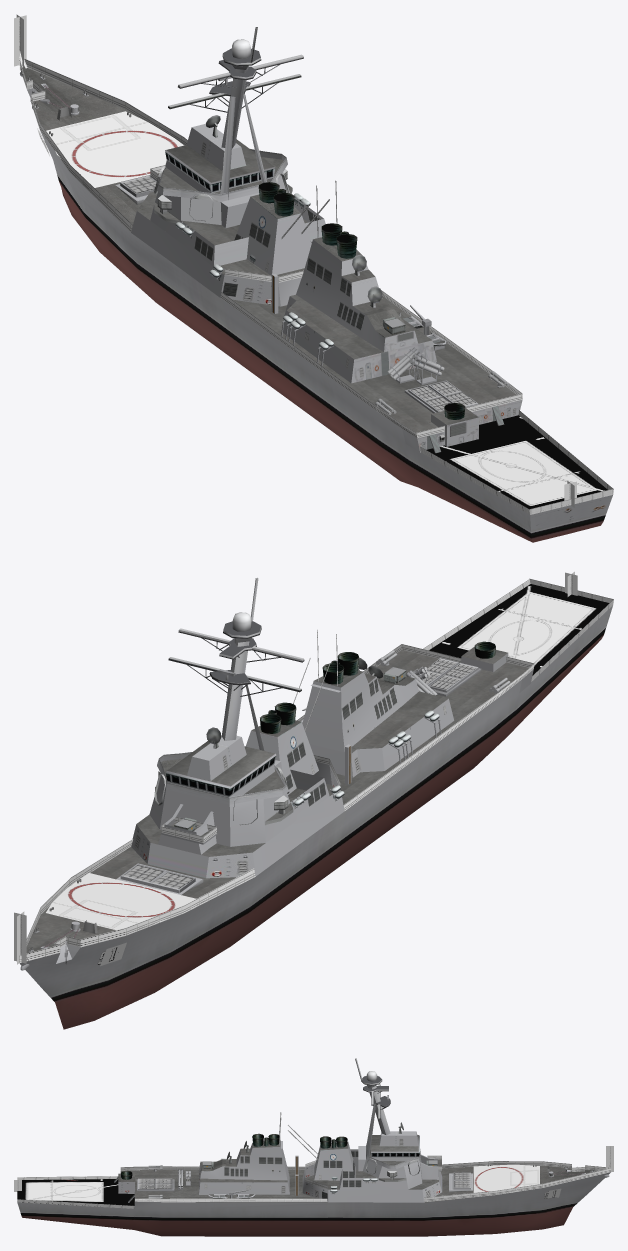
Rendered from DDG51.FBX.
3 renders of one model, top to bottom at view 1: azimuth 30°, elevation 25°; view 2: azimuth 150°, elevation 25°; view 3: azimuth 270°, elevation 25°, orthographic. The views are drawn at different scales.
Parts seen in each view (by area): view 1: f2786, f1037, f663, p42161, f2688, f651, p906, f3007, f4368, f4144, f662, f4289 (+8 smaller); view 2: f2786, f663, f1037, f2688, p42161, p906, f662, f651, f4368, f0, f4144, f1010_1 (+7 smaller); view 3: f2786, f663, f1037, f2688, p906, p42161, f651, f4368, f662, f0, f1010_1, f4289 (+7 smaller).
Part boxes in pixels (x1=…): f2786: x1=20, y1=72, x2=605, y2=542; f1037: x1=22, y1=66, x2=516, y2=432; f663: x1=131, y1=169, x2=465, y2=419; p42161: x1=426, y1=415, x2=607, y2=509; f2688: x1=283, y1=239, x2=385, y2=382; f651: x1=46, y1=111, x2=183, y2=187; p906: x1=19, y1=58, x2=522, y2=438; f3007: x1=351, y1=330, x2=522, y2=446; f4368: x1=165, y1=124, x2=275, y2=201; f4144: x1=168, y1=27, x2=303, y2=112; f662: x1=155, y1=172, x2=446, y2=452; f4289: x1=220, y1=66, x2=266, y2=199; f2786: x1=20, y1=605, x2=612, y2=1029; f663: x1=131, y1=641, x2=495, y2=878; f1037: x1=26, y1=647, x2=528, y2=953; f2688: x1=302, y1=657, x2=454, y2=777; p42161: x1=429, y1=584, x2=609, y2=675; p906: x1=19, y1=644, x2=534, y2=963; f662: x1=120, y1=653, x2=533, y2=893; f651: x1=46, y1=873, x2=196, y2=930; f4368: x1=165, y1=735, x2=276, y2=804; f0: x1=116, y1=658, x2=478, y2=894; f4144: x1=168, y1=577, x2=304, y2=696; f1010_1: x1=423, y1=578, x2=613, y2=681; f2786: x1=17, y1=1172, x2=610, y2=1236; f663: x1=118, y1=1133, x2=442, y2=1202; f1037: x1=19, y1=1140, x2=597, y2=1206; f2688: x1=199, y1=1140, x2=289, y2=1194; p906: x1=120, y1=1155, x2=611, y2=1202; p42161: x1=17, y1=1179, x2=134, y2=1205; f651: x1=473, y1=1164, x2=539, y2=1192; f4368: x1=366, y1=1131, x2=419, y2=1160; f662: x1=208, y1=1149, x2=438, y2=1198; f0: x1=138, y1=1172, x2=472, y2=1190; f1010_1: x1=17, y1=1176, x2=134, y2=1208; f4289: x1=366, y1=1086, x2=390, y2=1156.
Size of the model in its own units: 21.14 by 48.12 by 155.
